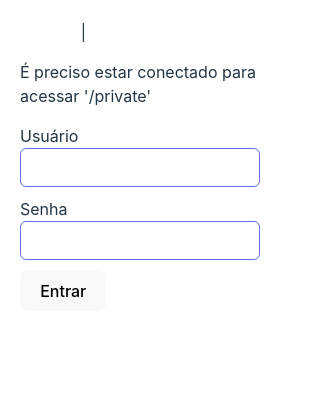
it: Login funcionando › Conexão bem sucedida
Type "wilcorrea@gmail.com" into the field named "username" at (140, 168), box [20,148,260,187]
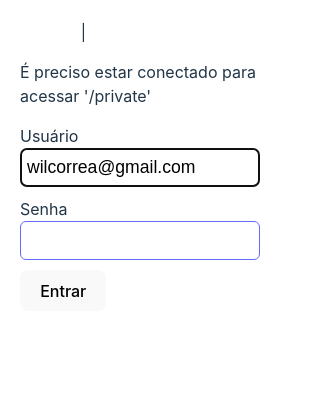
Type "aq1sw2de3" into the password field named "password" at (140, 241), box [20,221,260,260]
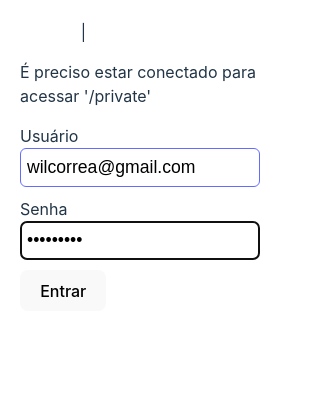
Click the submit button at (64, 291), box [20,270,107,311]
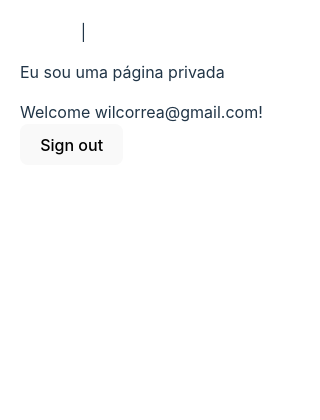
Expected: the text "Eu sou uma página privada" is shown, [20,62,225,82]
